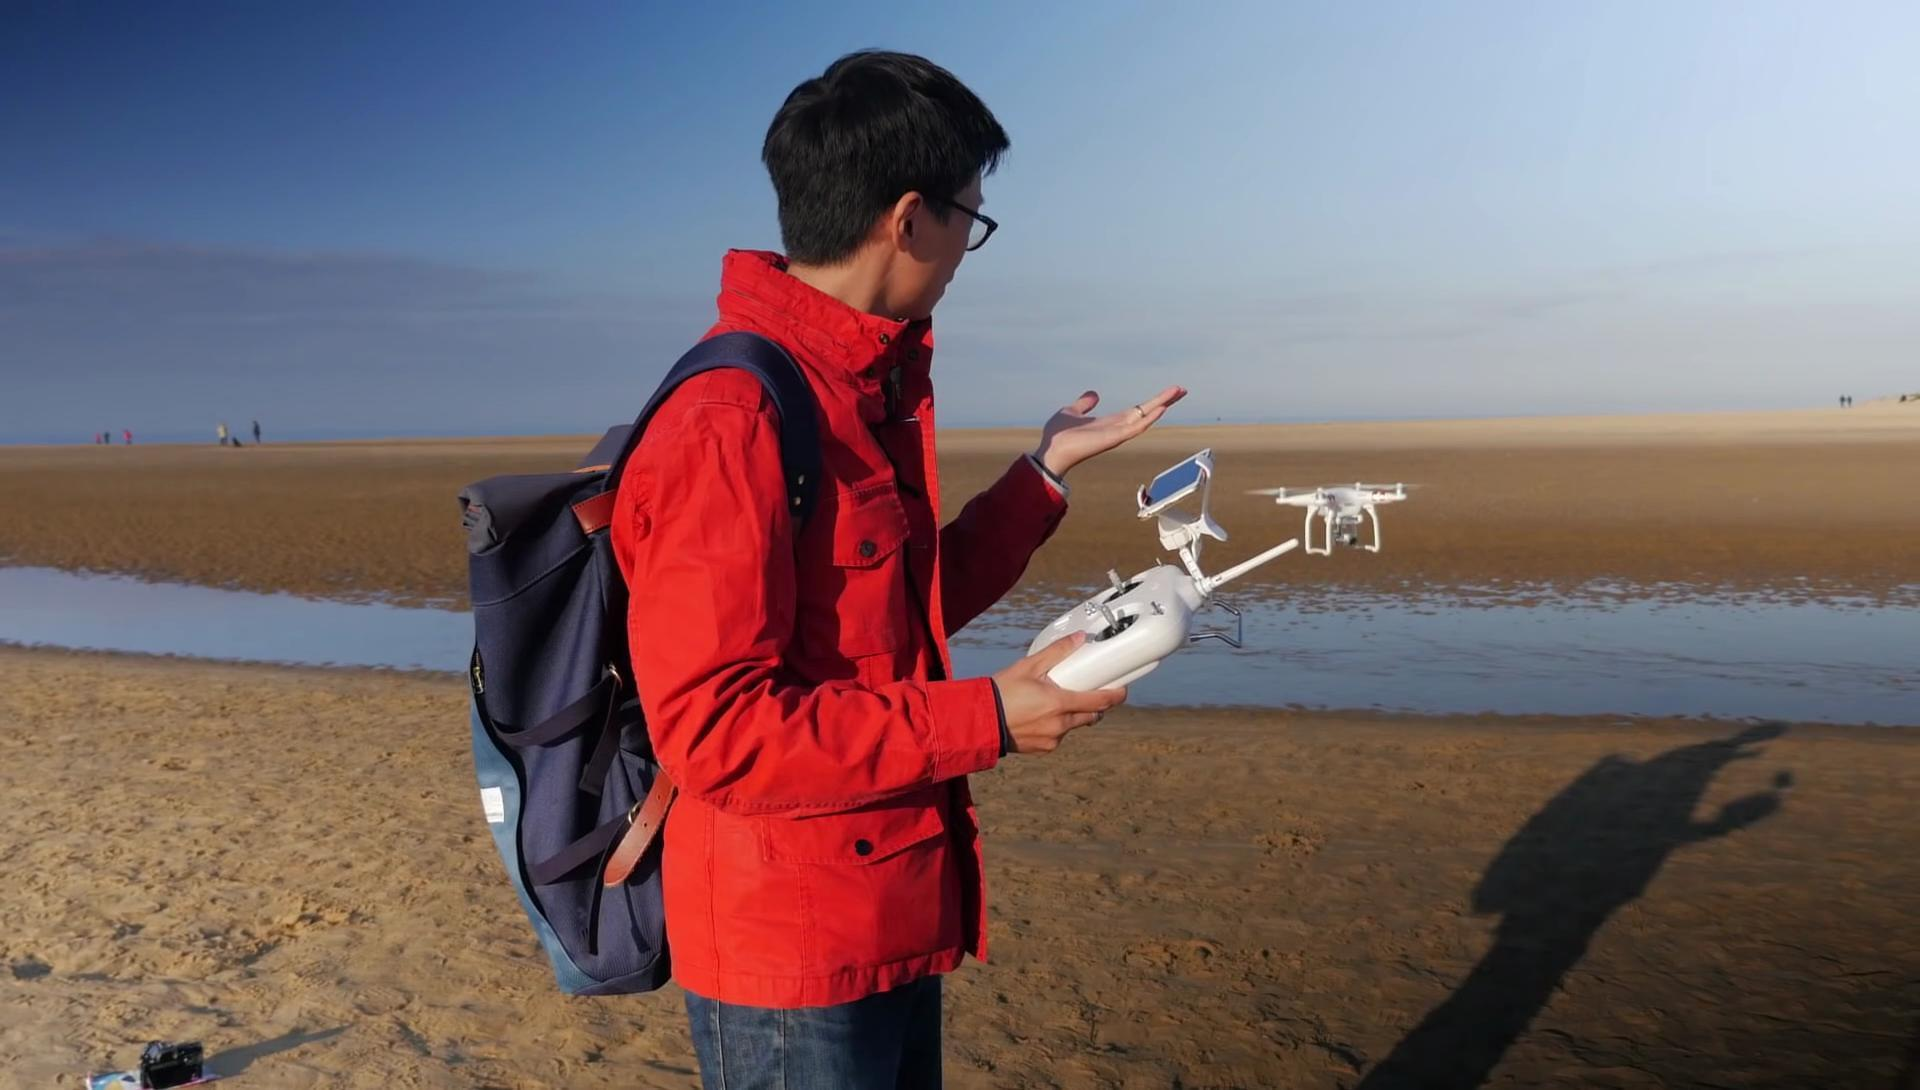drone: (1247, 472, 1429, 560)
